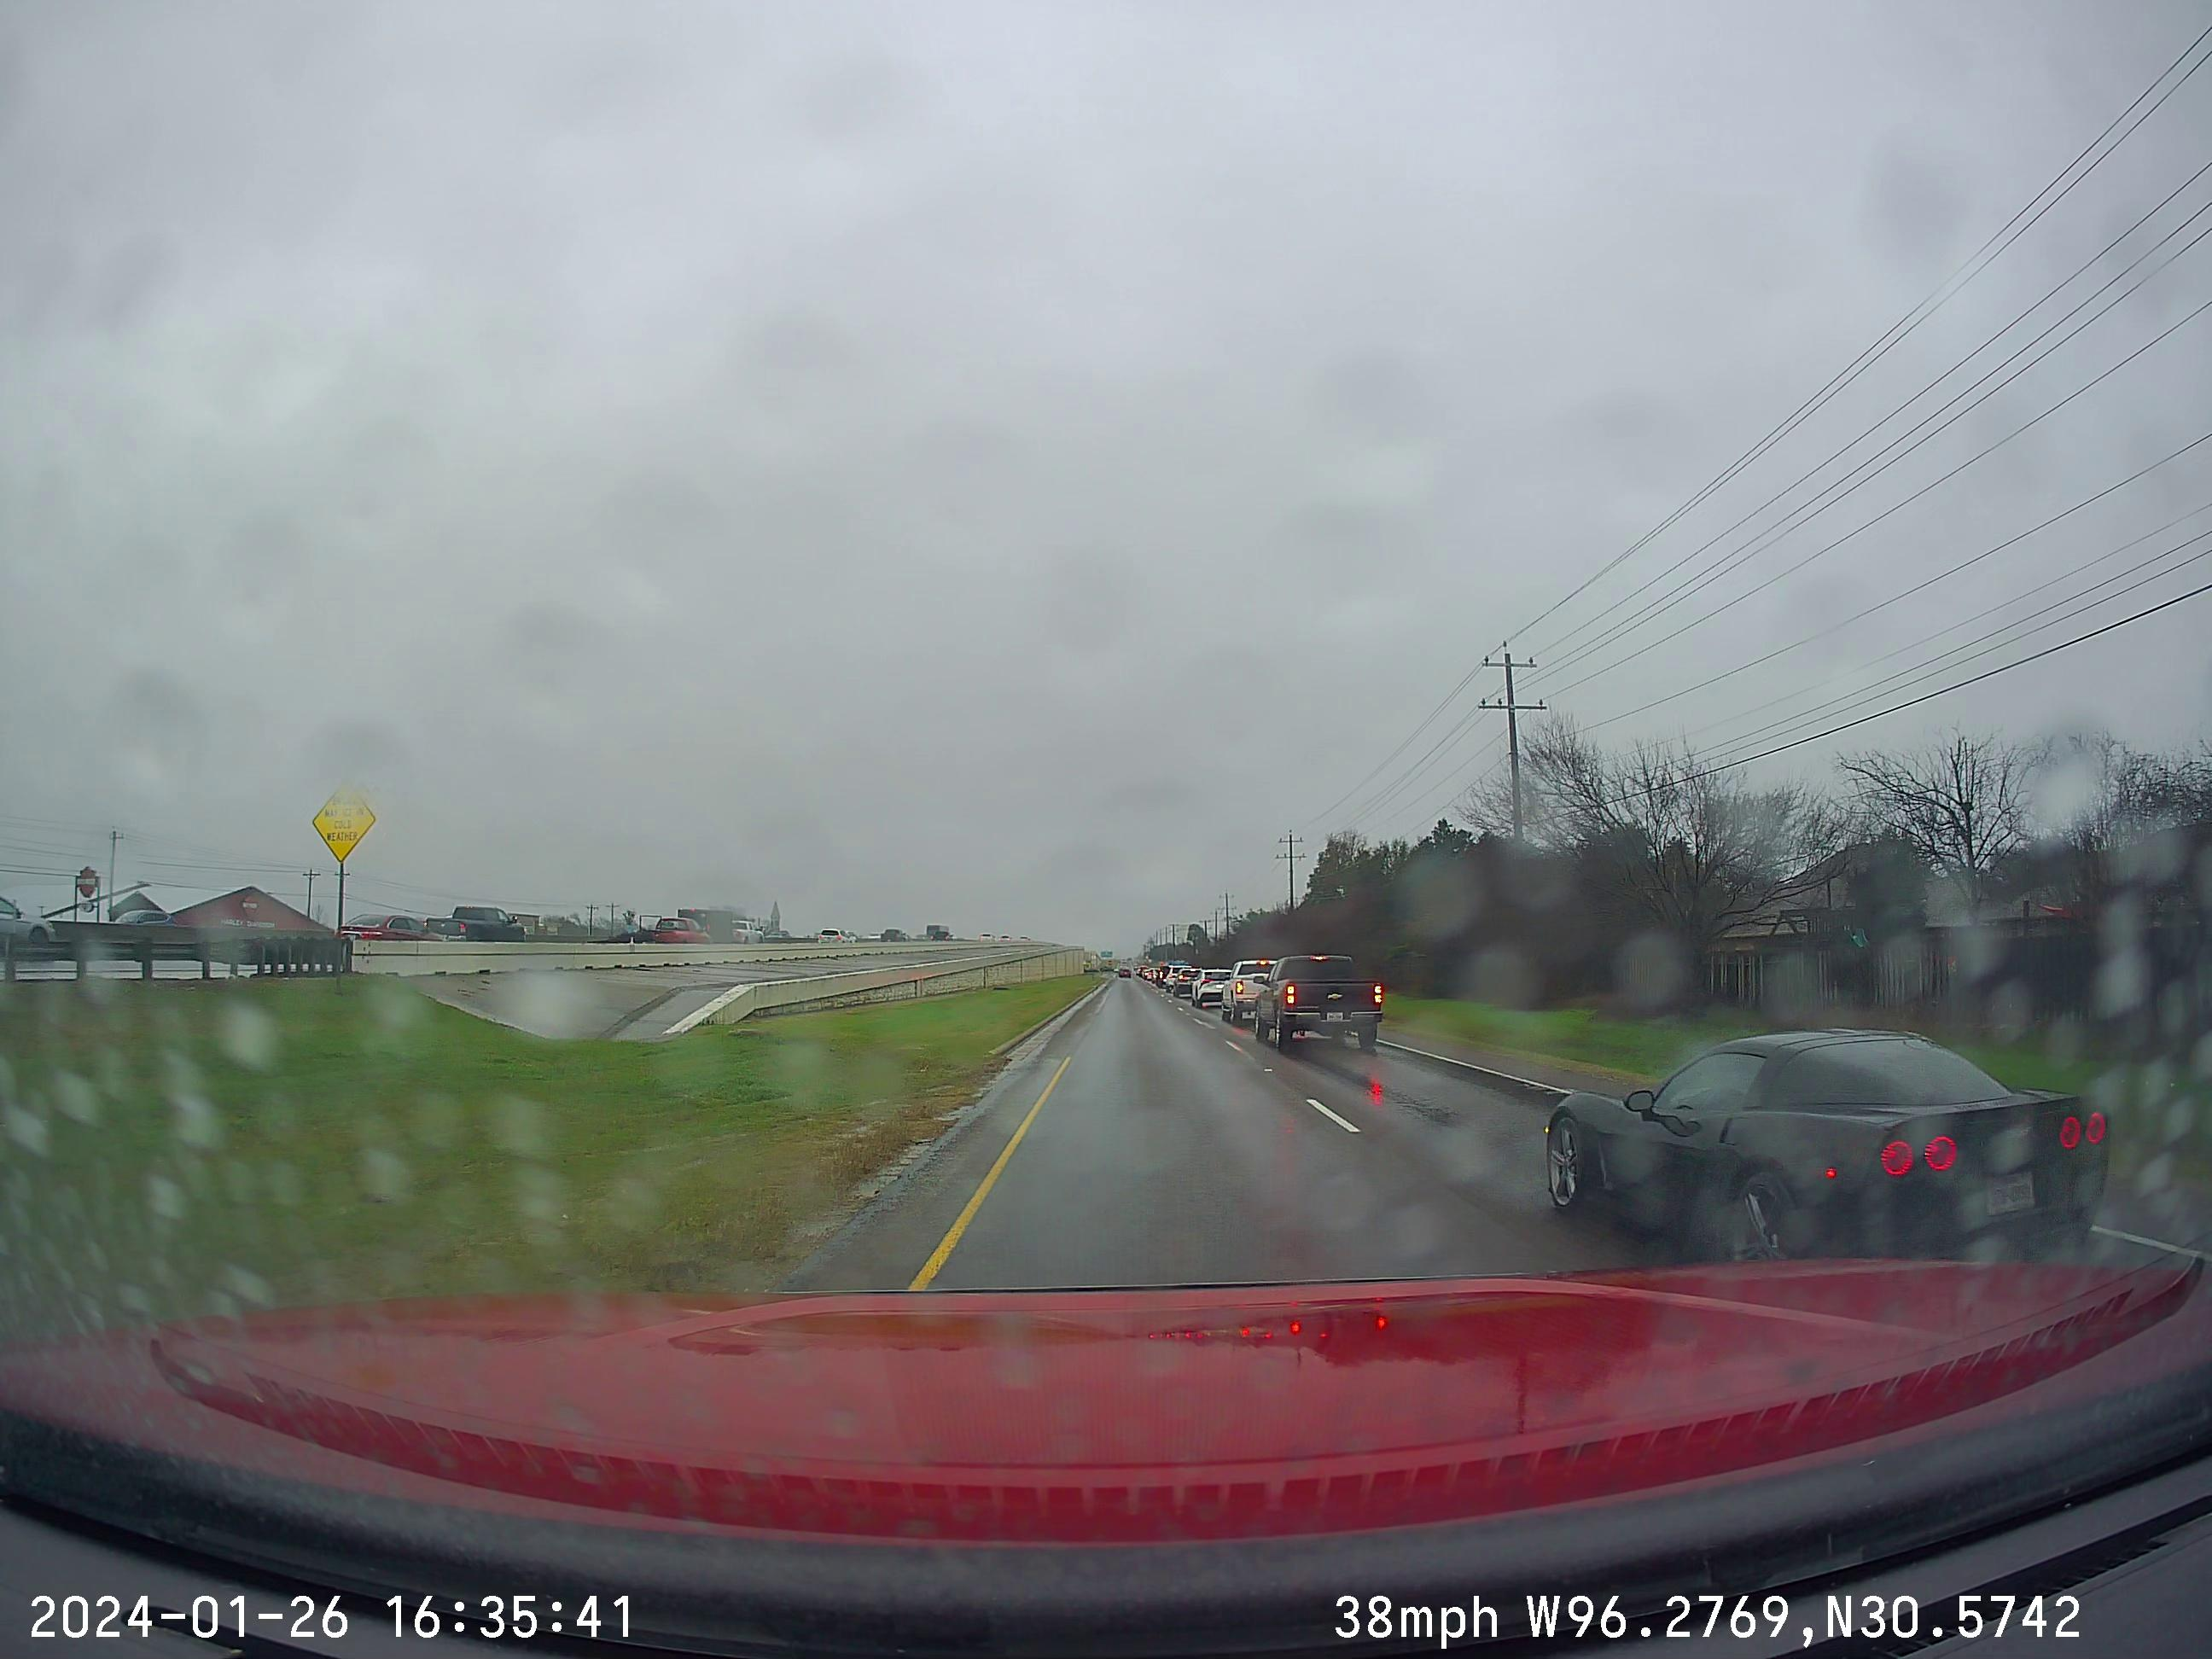car: (1545, 1030, 2106, 1258)
truck: (1254, 955, 1383, 1053)
